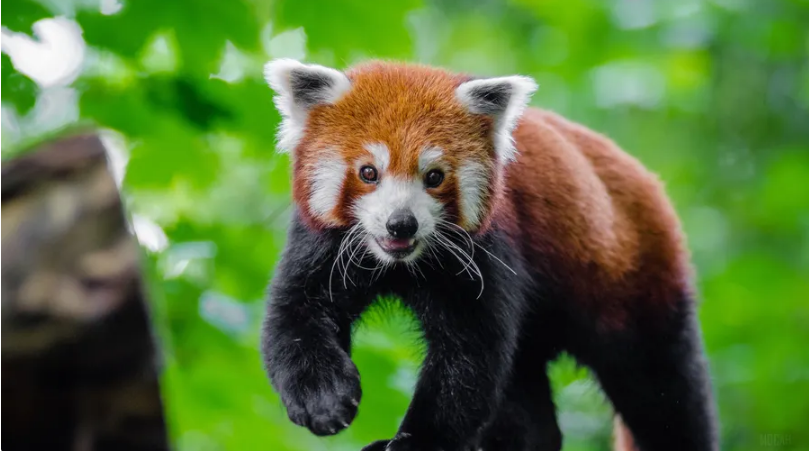red_panda: (264, 59, 563, 300)
